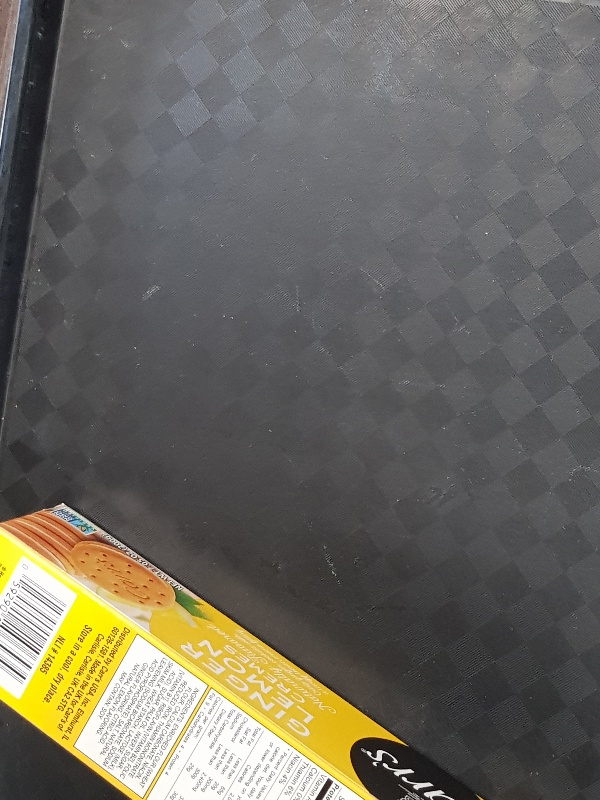Carr's Ginger Lemon Cremes: (1, 497, 495, 800)
